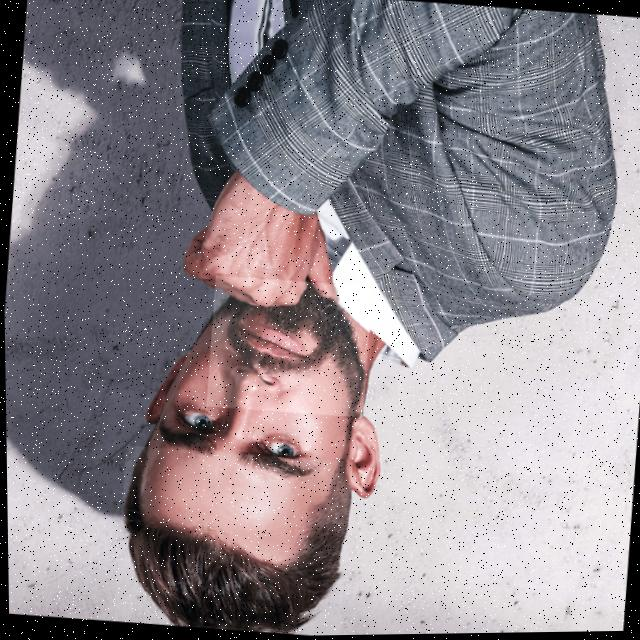beard: (211, 283, 364, 417)
hair: (119, 448, 348, 634)
